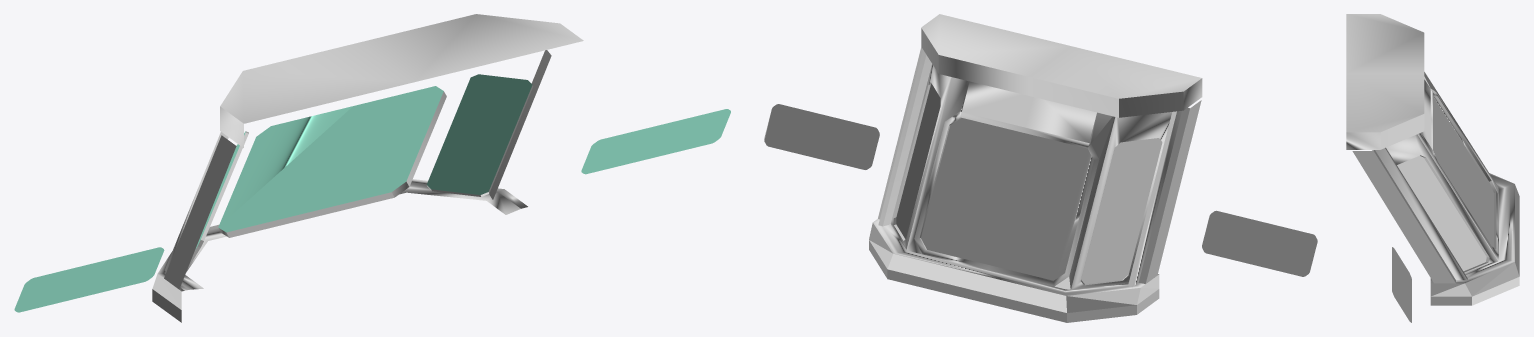
Rendered from sp_ext_facade_vista_blocker.glb.
3 views of the same model, side by side, from view 1: azimuth 30°, elevation 25°; view 2: azimuth 150°, elevation 25°; view 3: azimuth 270°, elevation 25° (orthographic). The views are drawn at different scales.
Size of the model in its own units: 62.33 by 20.35 by 18.53.
